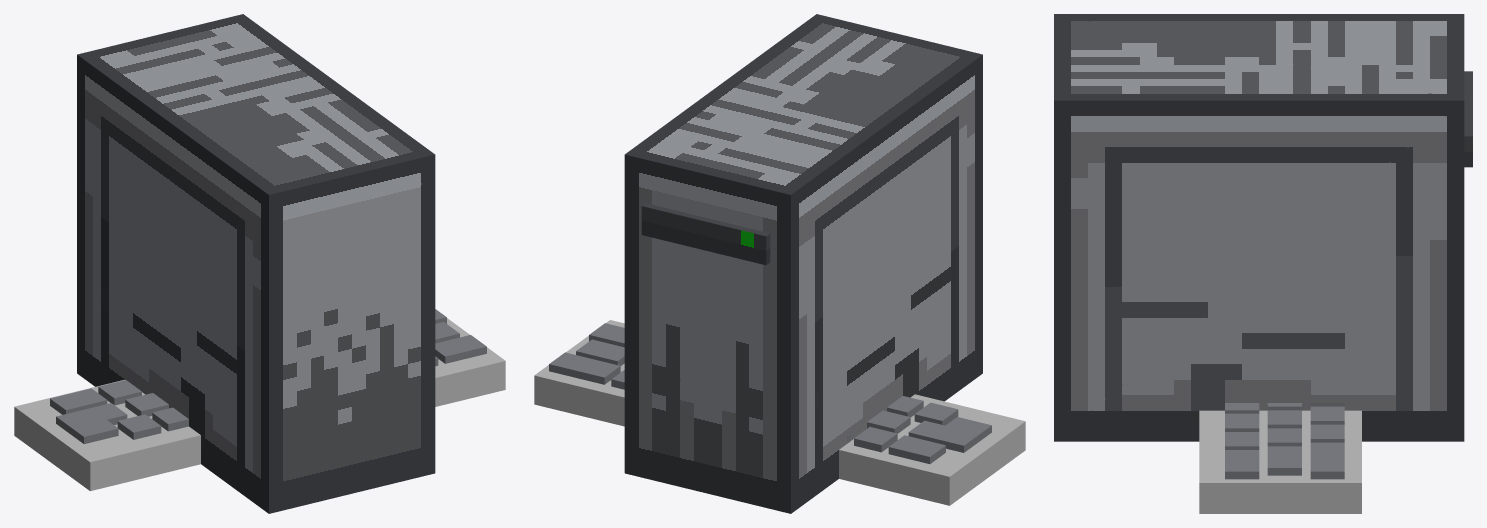
File: Mouse.fbx
The picture shows the model from 3 angles, left to right: view 1: azimuth 30°, elevation 25°; view 2: azimuth 150°, elevation 25°; view 3: azimuth 270°, elevation 25°; orthographic projection. The views are drawn at different scales.
Visible parts, largest first — view 1: cube, cube_2, cube_30, cube_3, cube_31, cube_32, cube_33, cube_29, cube_26, cube_21; view 2: cube, cube_2, cube_1, cube_22, cube_30, cube_31, cube_7, cube_29, cube_32, cube_26, cube_3; view 3: cube, cube_2, cube_22, cube_7, cube_3, cube_1, cube_5, cube_6, cube_8, cube_18, cube_23, cube_4.
Boxes of the visible parts, x1,y1,x2,y2 form: cube: (77, 14, 435, 513); cube_2: (14, 318, 505, 491); cube_30: (56, 403, 127, 434); cube_3: (435, 335, 486, 363); cube_31: (50, 388, 107, 414); cube_32: (117, 414, 161, 439); cube_33: (72, 420, 118, 443); cube_29: (98, 380, 141, 405); cube_26: (125, 393, 168, 416); cube_21: (152, 407, 188, 431); cube: (624, 14, 982, 513); cube_2: (534, 320, 1025, 505); cube_1: (641, 203, 770, 265); cube_22: (549, 352, 620, 384); cube_30: (908, 420, 979, 452); cube_31: (888, 435, 945, 463); cube_7: (576, 339, 624, 365); cube_29: (854, 427, 897, 452); cube_32: (914, 402, 958, 425); cube_26: (867, 410, 910, 433); cube_3: (589, 323, 624, 347); cube: (1054, 14, 1464, 441); cube_2: (1199, 410, 1361, 513); cube_22: (1310, 442, 1344, 479); cube_7: (1267, 446, 1301, 475); cube_3: (1225, 450, 1259, 479); cube_1: (1464, 71, 1472, 167); cube_5: (1225, 413, 1259, 431); cube_6: (1267, 410, 1301, 428); cube_8: (1267, 428, 1301, 446); cube_18: (1310, 406, 1344, 424); cube_23: (1310, 424, 1344, 442); cube_4: (1225, 432, 1259, 449).
Bounding box in the file's own units: 93.75 × 68.75 × 76.56.
